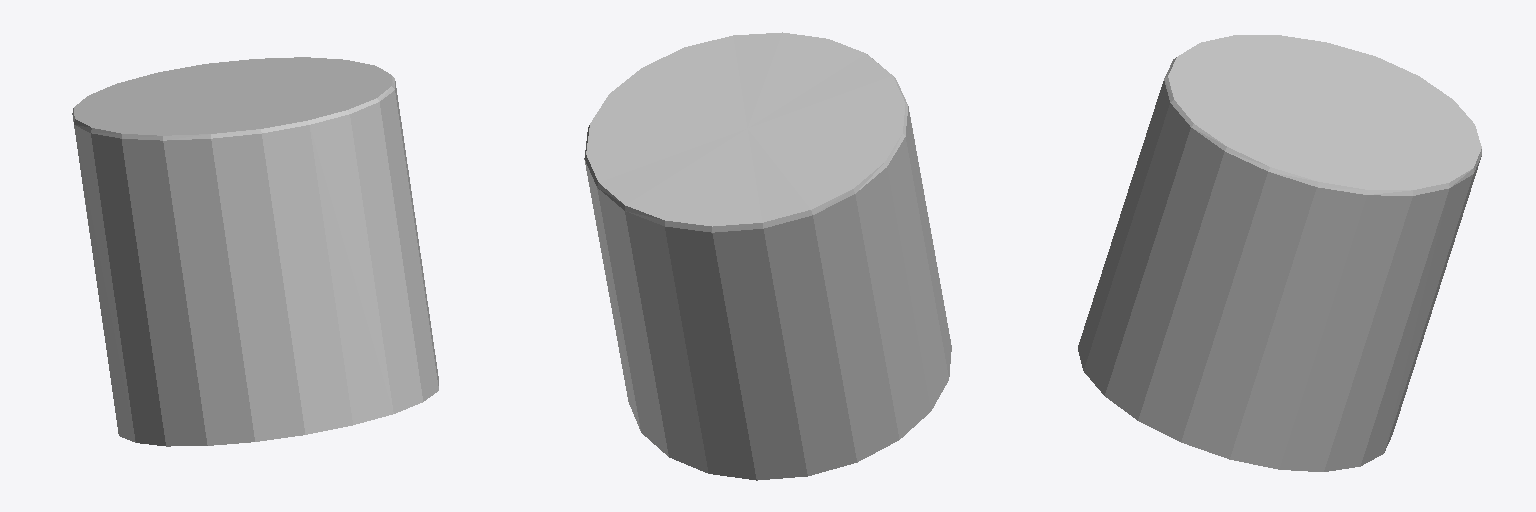
The model's file is L_Light.obj.
3 views of the same model, side by side, from view 1: azimuth 30°, elevation 25°; view 2: azimuth 150°, elevation 25°; view 3: azimuth 270°, elevation 25° (orthographic).
Visible parts, largest first — view 1: __CM__Light Mesh; view 2: __CM__Light Mesh; view 3: __CM__Light Mesh.
Boxes of the visible parts, box(x1,y1,x2,y2) form: __CM__Light Mesh: box(72, 57, 438, 446); __CM__Light Mesh: box(584, 32, 951, 480); __CM__Light Mesh: box(1078, 35, 1481, 471).
Bounding box in the file's own units: 0.0012 × 0.0014 × 0.0015.